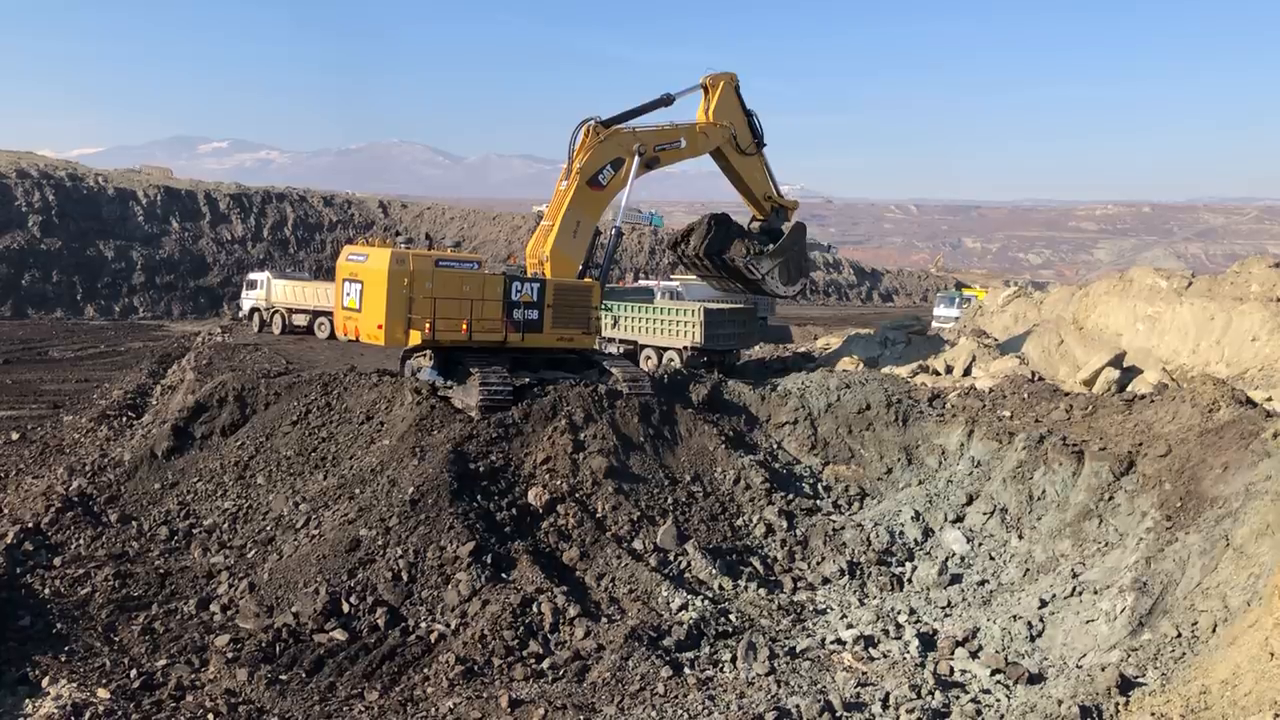empty: (667, 210, 821, 301)
